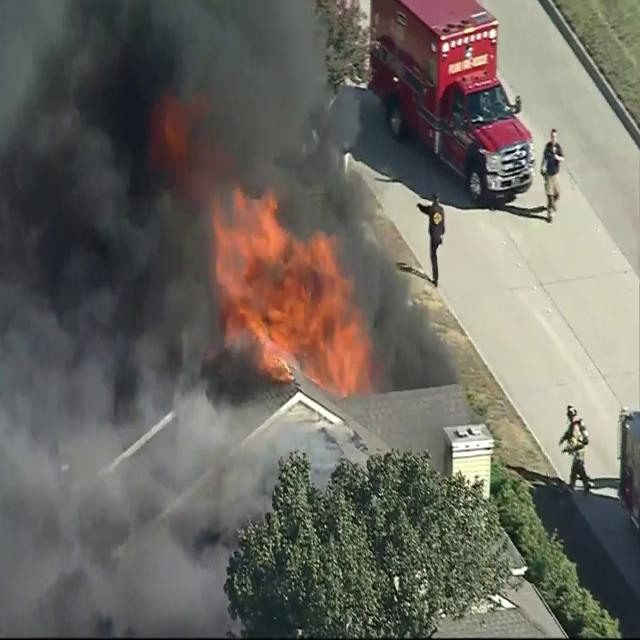Fire: (209, 182, 377, 404)
Smoke: (0, 1, 374, 393)
